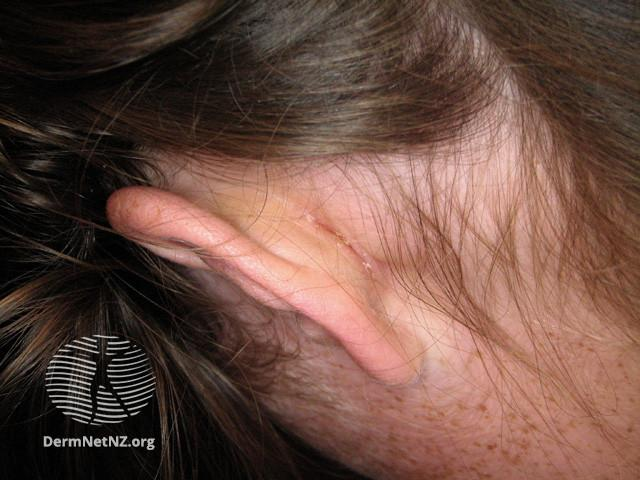Psoriasis: (175, 102, 626, 387)
